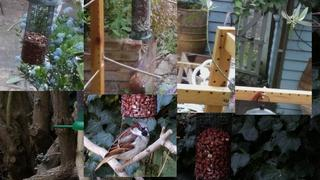sparrow: (93, 121, 150, 172)
